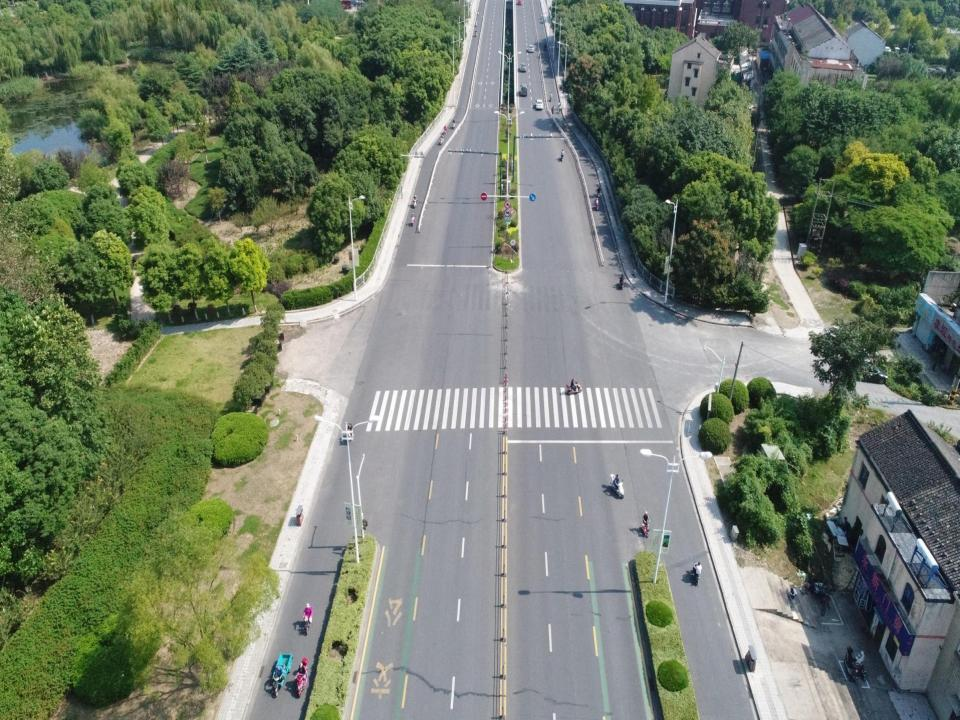car: (853, 361, 888, 384), (534, 99, 543, 109), (519, 62, 527, 72), (528, 45, 534, 53), (517, 0, 522, 5)
van: (520, 84, 528, 96)
